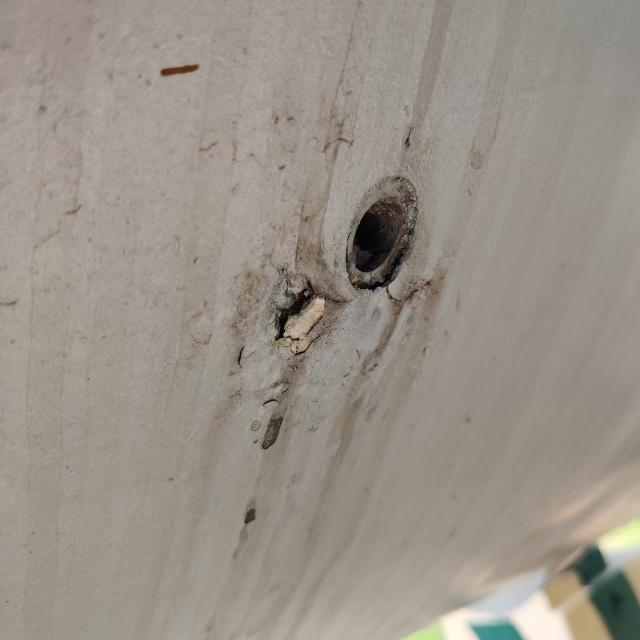crack: (246, 273, 376, 378)
